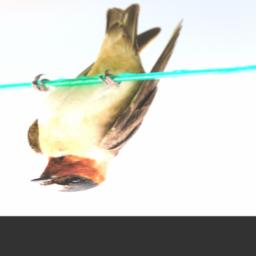Swallow: (0, 0, 226, 197)
